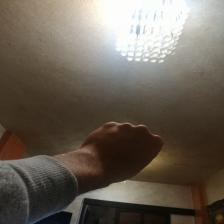five: (73, 120, 171, 187)
